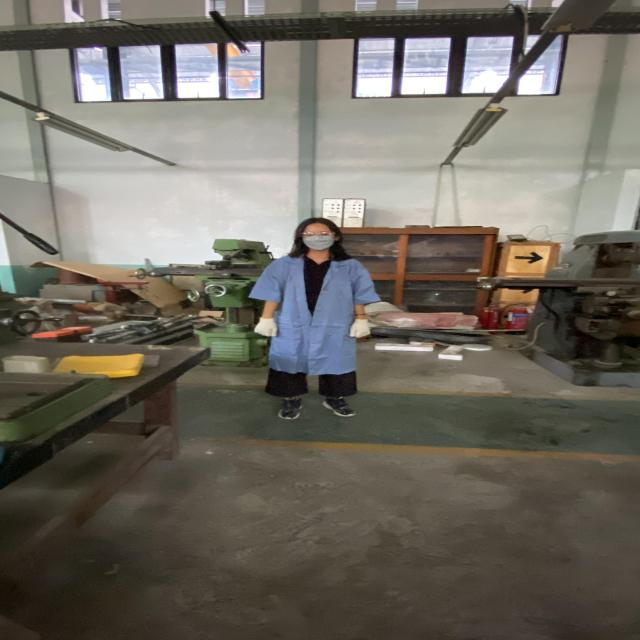face_mask: (299, 230, 337, 250)
glasses: (300, 230, 337, 239)
hand_glove: (248, 317, 280, 338), (348, 320, 372, 338)
head_nohelmet: (295, 215, 338, 230)
person: (245, 214, 388, 423)
shoes: (272, 394, 312, 420), (320, 396, 358, 420)
